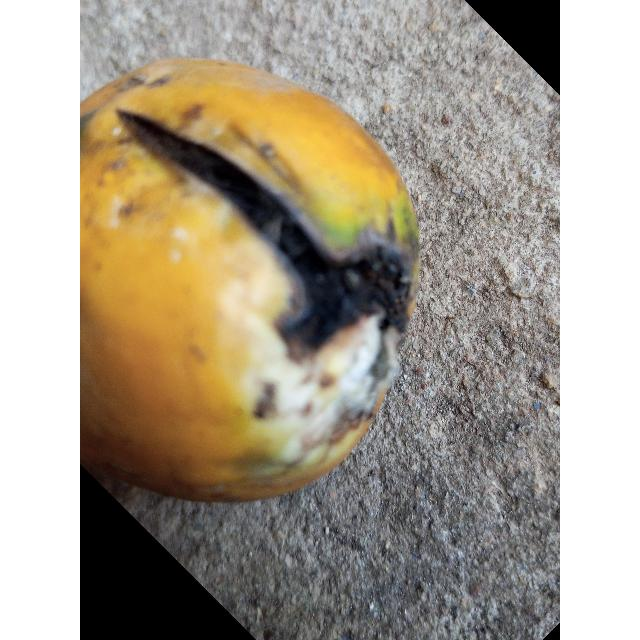damaged: (80, 57, 420, 506)
